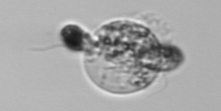plankton: (54, 10, 188, 101)
